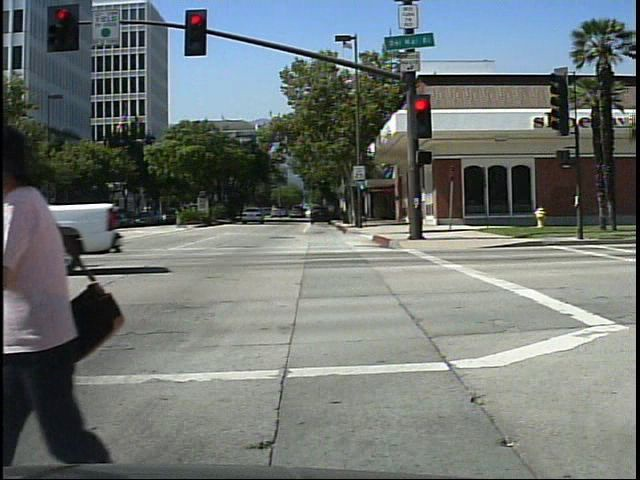person: (0, 104, 127, 466)
